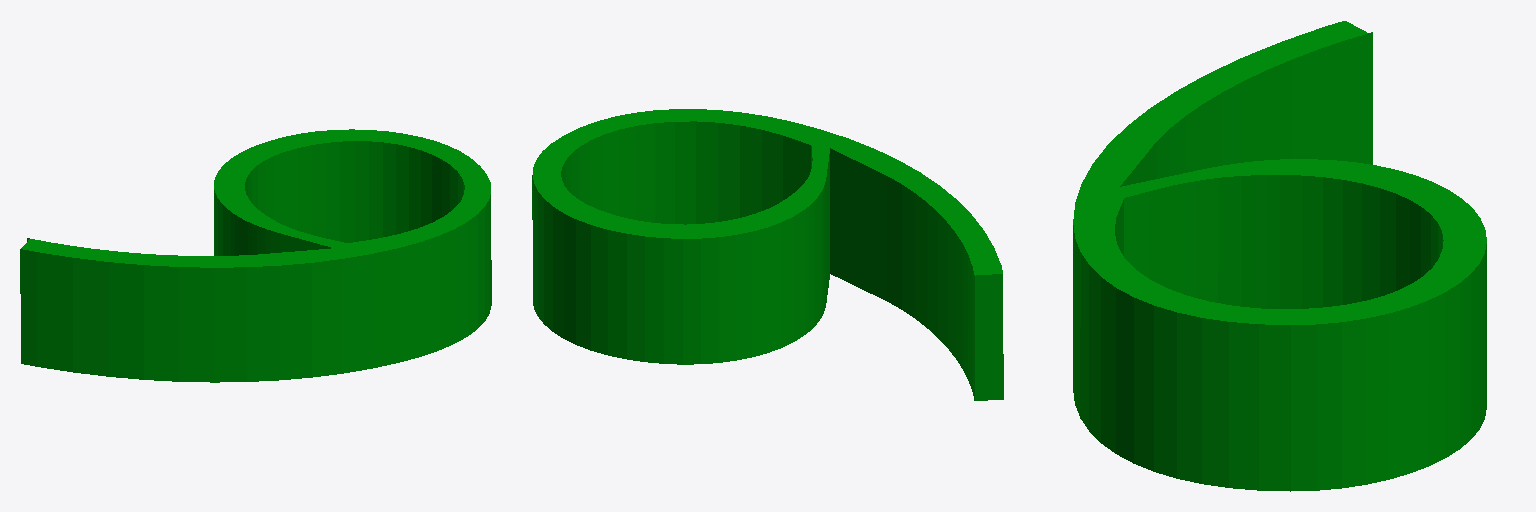
robot.urdf — number_5:
<?xml version="0.0" ?>
<robot name="number_5">
    <material name="green">
        <color rgba="0.005953 0.613846 0.061735 1"/>
    </material>

    <link name="baseLink">
        <!-- from lego/lego.urdf -->
        <contact>
            <lateral_friction value="1.0"/>
            <rolling_friction value="0.0"/>
            <contact_cfm value="0.0"/>
            <contact_erp value="1.0"/>
        </contact>
        <inertial>
            <origin rpy="0 0 0" xyz="0 0 0"/>
            <mass value="0.01"/>
            <inertia ixx="1" ixy="0" ixz="0" iyy="1" iyz="0" izz="1"/>
        </inertial>
        <visual>
            <origin rpy="1.57 0 0" xyz="0 0 0"/>
            <geometry>
                <!--        radius: 10mm, depth: 14.5mm-->
                <mesh filename="meshes/number_6.obj" scale="0.025 0.025 0.025"/>
                <!--        <box size="0.002 0.002 0.002"/>-->
            </geometry>
            <material name="green"/>
        </visual>
        <collision>
            <origin rpy="1.57 0 0" xyz="0 0 0"/>
            <geometry>
                <mesh filename="meshes/number_6_vhacd.obj" scale="0.025 0.025 0.025"/>
                       <!-- <box size="0.002 0.002 0.002"/> -->
            </geometry>
        </collision>
    </link>

    <link name="waypoint_0">
        <!--    origin-->
        <inertial>
            <origin rpy="0 0 0" xyz="0 0 0"/>
            <mass value=".0"/>
            <inertia ixx="0." ixy="0" ixz="0" iyy="0." iyz="0" izz="0."/>
        </inertial>
    </link>

    <joint name="waypoint_joint_0" type="fixed">
        <parent link="baseLink"/>
        <child link="waypoint_0"/>
        <origin rpy="0 0 -0.9" xyz="0 0.015 0.035"/>
    </joint>

    <link name="waypoint_1">
        <!--    origin-->
        <inertial>
            <origin rpy="0 0 0" xyz="0 0 0"/>
            <mass value=".0"/>
            <inertia ixx="0." ixy="0" ixz="0" iyy="0." iyz="0" izz="0."/>
        </inertial>
    </link>

    <joint name="waypoint_joint_1" type="fixed">
        <parent link="baseLink"/>
        <child link="waypoint_1"/>
        <origin rpy="0 0 0" xyz="0 0 0.15"/>
    </joint>
</robot>

--- What the picture shows (computed from the rendered views, not written in the file) ---
The picture shows the robot from 3 angles, left to right: view 1: azimuth 30°, elevation 25°; view 2: azimuth 150°, elevation 25°; view 3: azimuth 270°, elevation 25°; orthographic projection.
Model number_5 with 3 links and 2 joints (2 fixed), rooted at baseLink, posed every joint at zero.
Visible links, largest first — view 1: baseLink; view 2: baseLink; view 3: baseLink.
Boxes of the visible links, <box> form: baseLink: <box>20,129,491,382</box>; baseLink: <box>532,109,1003,400</box>; baseLink: <box>1073,21,1486,491</box>.
Size in the robot's own frame: 0.0629 by 0.0361 by 0.016 metres.
1 mesh visuals loaded from 1 distinct referenced files (1 OBJ).